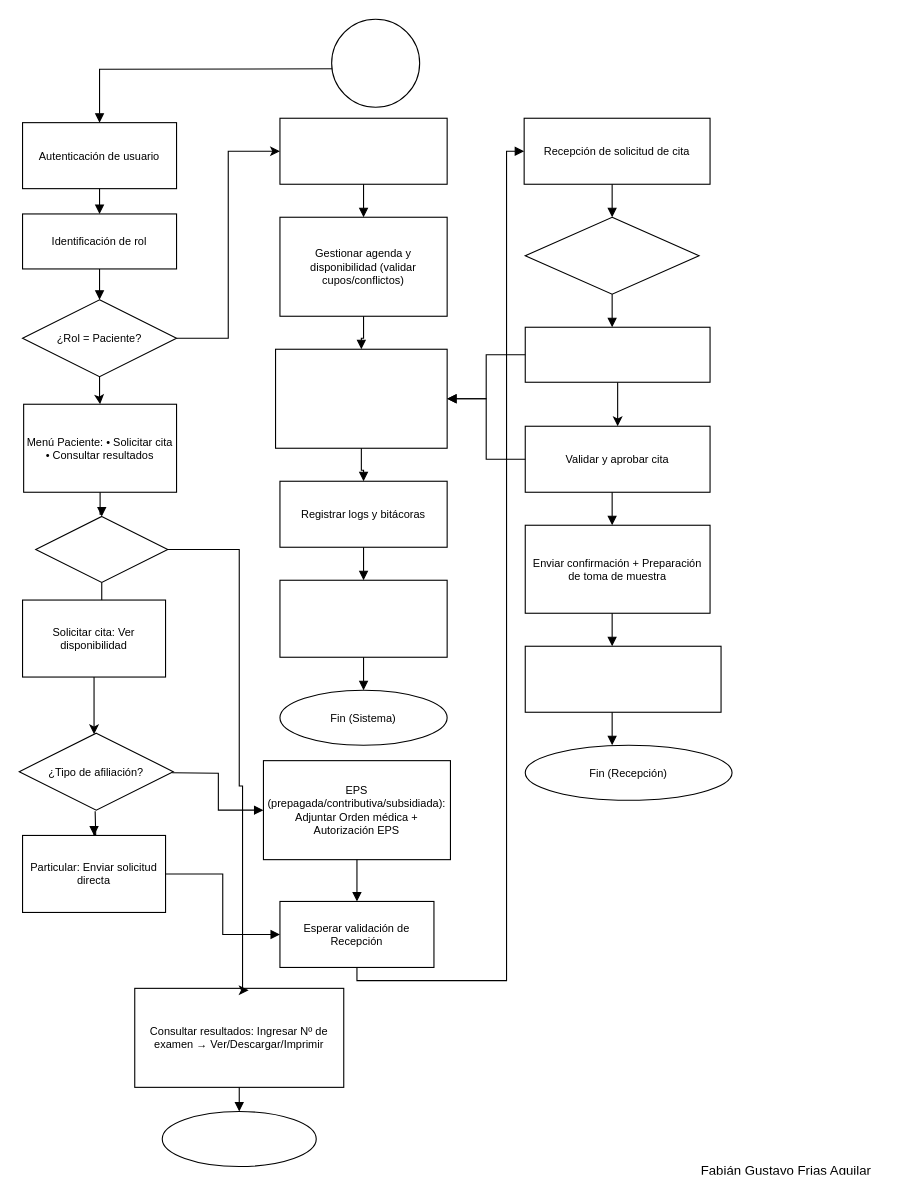
This 916x1196 diagram has some shape labels left out. Each missing label, with the centre of its shape:
"Auditoría del proceso (cierre general)" goes at (363,618).
"Fin (Paciente)" goes at (238,1138).
"Inicio" goes at (375,62).
"Notificaciones automáticas (confirmación/rechazo/recordatorios)" goes at (360,398).
"Notificar faltantes al paciente" goes at (617,354).
"Registrar auditoría de atención" goes at (622,678).
"Validar autenticación y roles" goes at (363,150).
"¿Acción seleccionada?" goes at (101,548).
"¿Documentación completa?" goes at (611,255).
